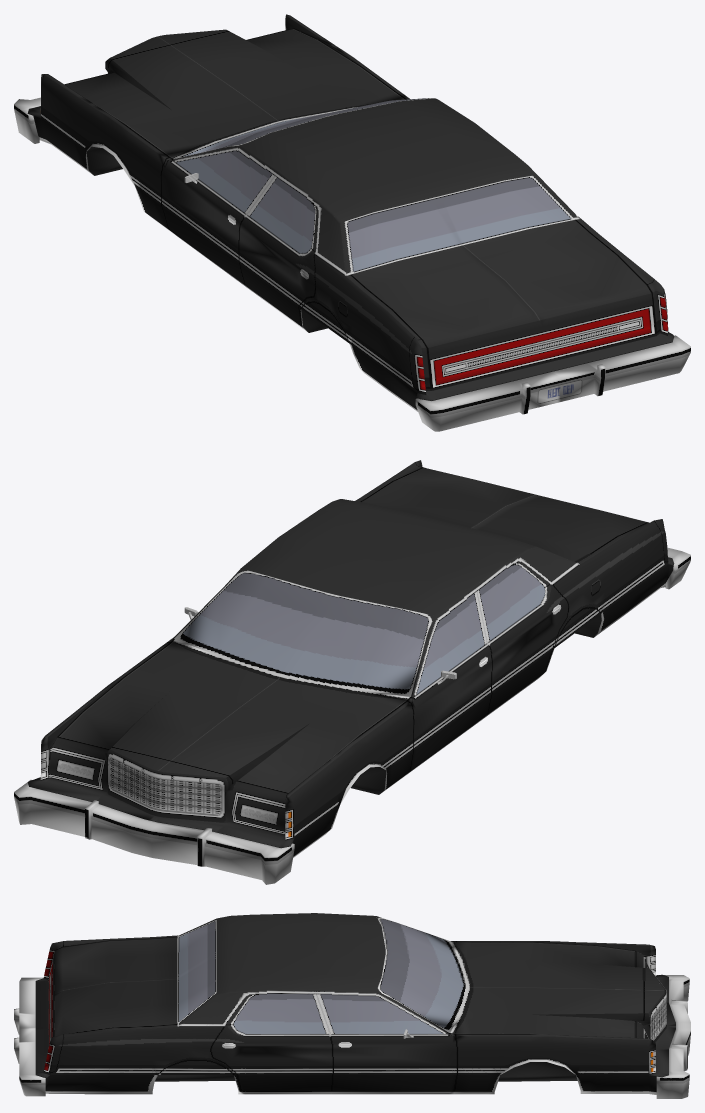
File: 78LTDlandau.fbx
3 views of the same model, one above another, from view 1: azimuth 30°, elevation 25°; view 2: azimuth 150°, elevation 25°; view 3: azimuth 270°, elevation 25° (orthographic). The views are drawn at different scales.
Visible parts, largest first — view 1: 78LTDlandau; view 2: 78LTDlandau; view 3: 78LTDlandau.
Part boxes in pixels (left/top/right/bottom): 78LTDlandau: left=14, top=14, right=690, bottom=431; 78LTDlandau: left=14, top=460, right=690, bottom=884; 78LTDlandau: left=14, top=913, right=690, bottom=1098.
Size of the model in its own units: 2.38 by 1.06 by 6.44.
